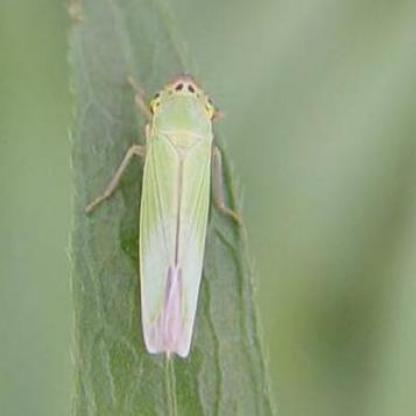Green-Leafhopper: (86, 69, 240, 364)
